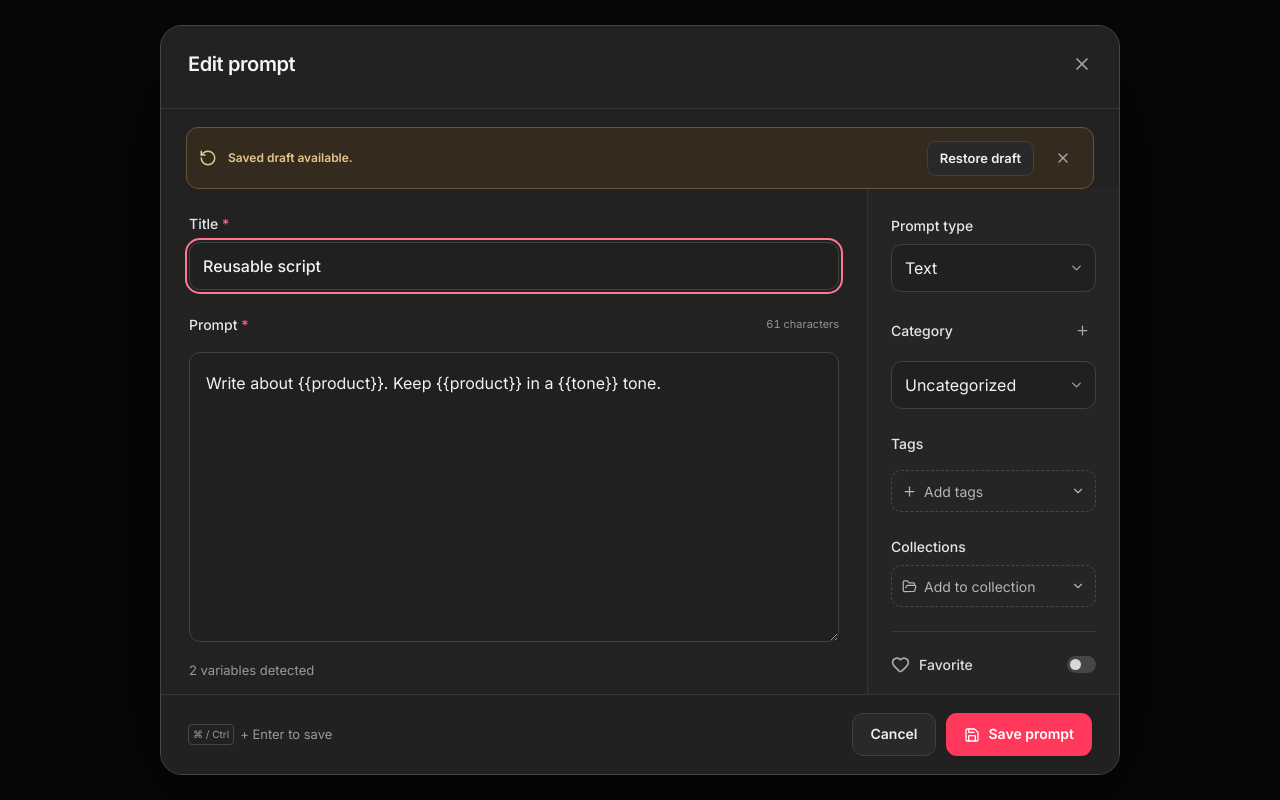
Test case: prompt editor data safety › offers a saved draft without replacing the current prompt until the user restores it
Check: the text "Saved draft available." is shown, box [228,150,353,165]
Check: the field labelled "Title *" holds "Reusable script", box [189,242,839,290]
Click the button "Restore draft".
click(980, 158)  # box [927,140,1034,176]
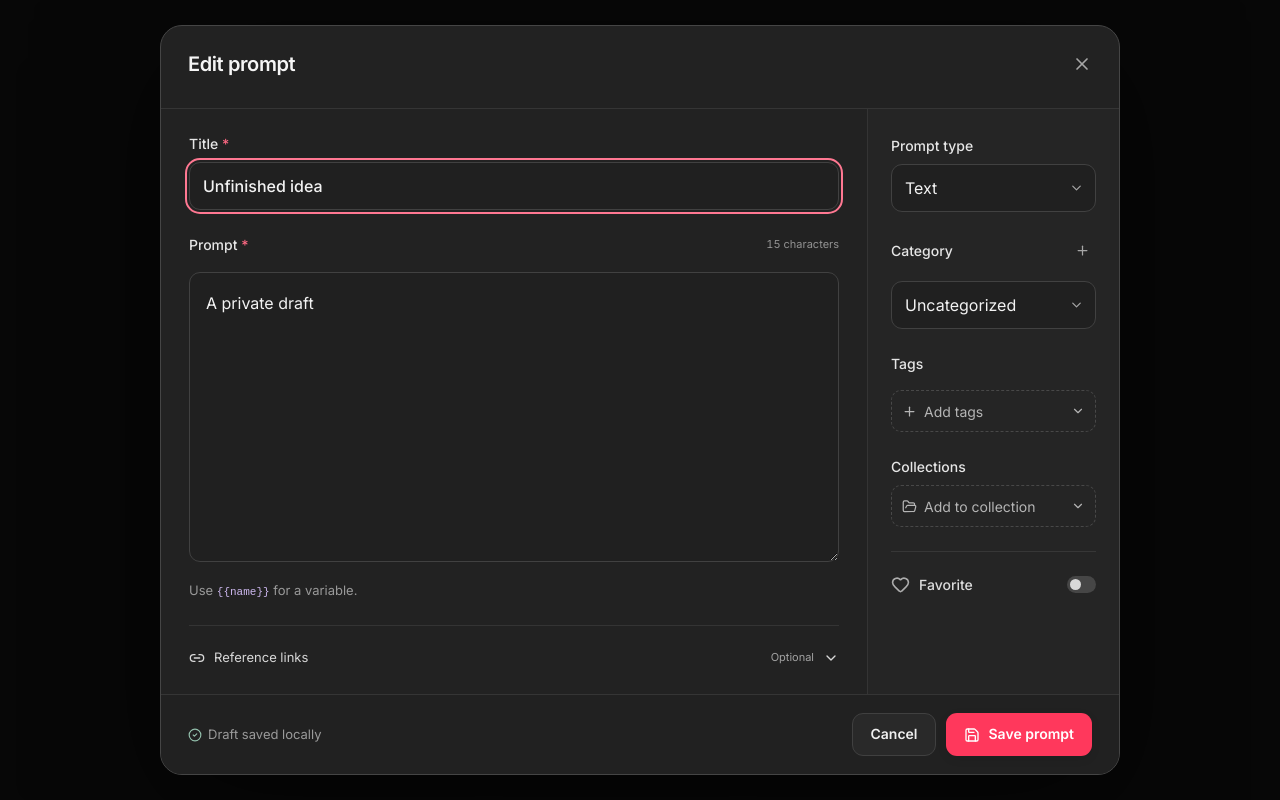
Check: the field labelled "Title *" holds "Unfinished idea", box [189,162,839,210]
Check: the text box labelled "Prompt *" holds "A private draft", box [189,272,839,562]
